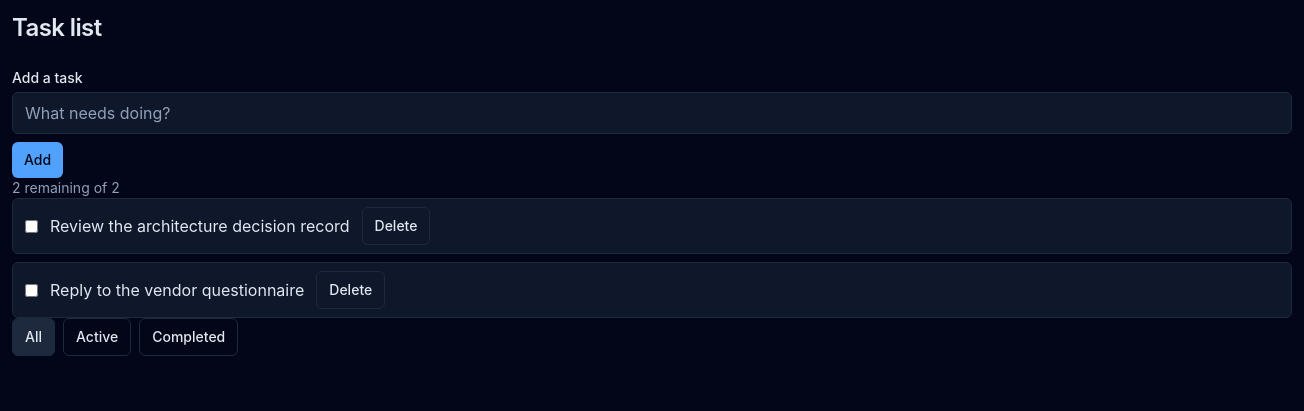
Test: TasksPage › hides the clear control until a task completes
Click the 1st checkbox with test id "task-checkbox": click(32, 226) 25,220 -> 38,232
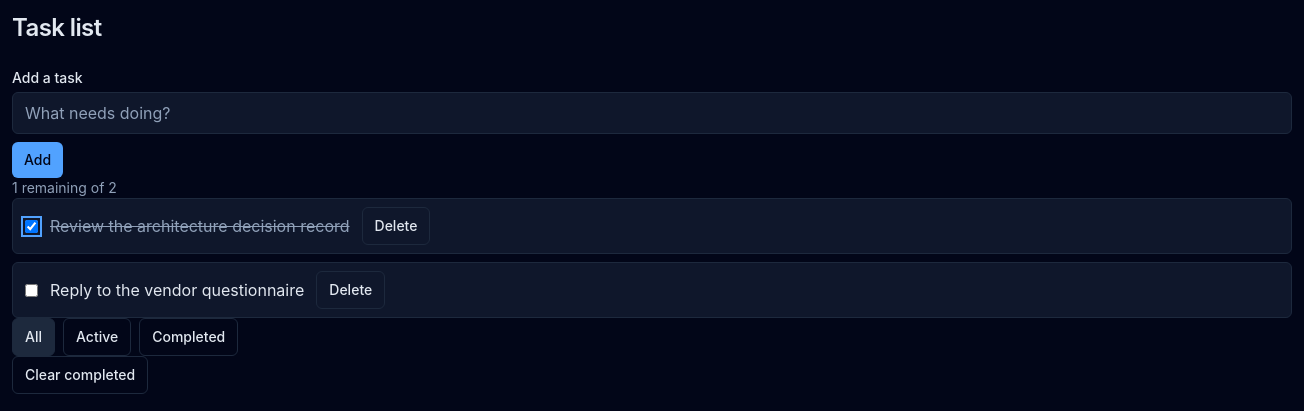
Expected: the button with test id "clear-completed-button" is shown, 12,356 -> 148,394
